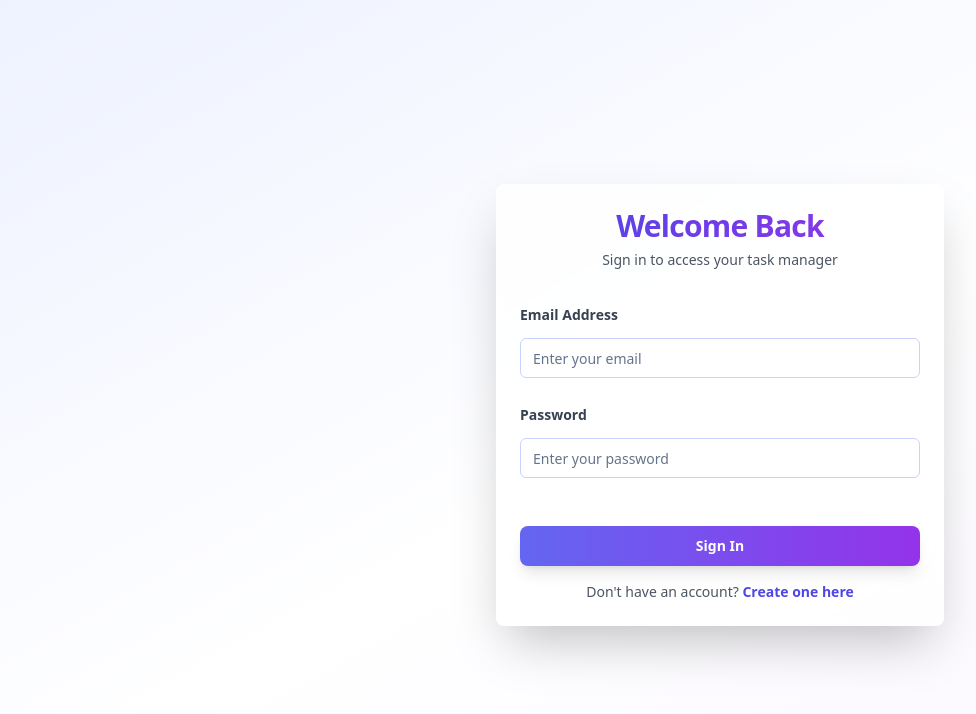
Test: App Integration Tests › handles authentication errors gracefully
In the field with placeholder "Enter your email": (720, 358) [520, 338, 920, 378], type "wrong@example.com"
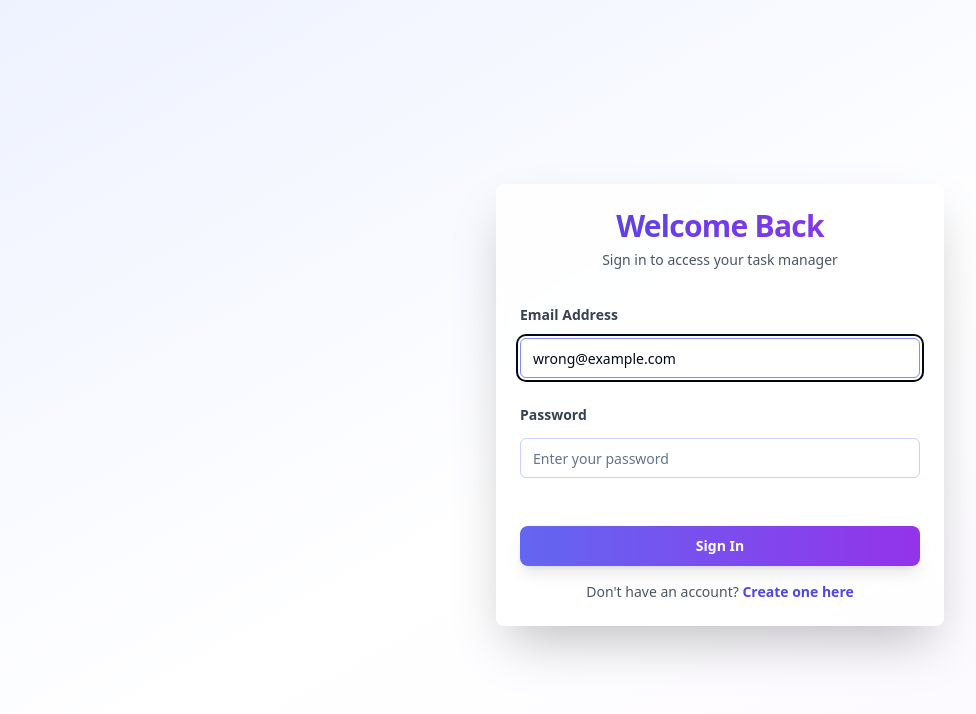
In the password field with placeholder "Enter your password": (720, 458) [520, 438, 920, 478], type "wrongpassword"
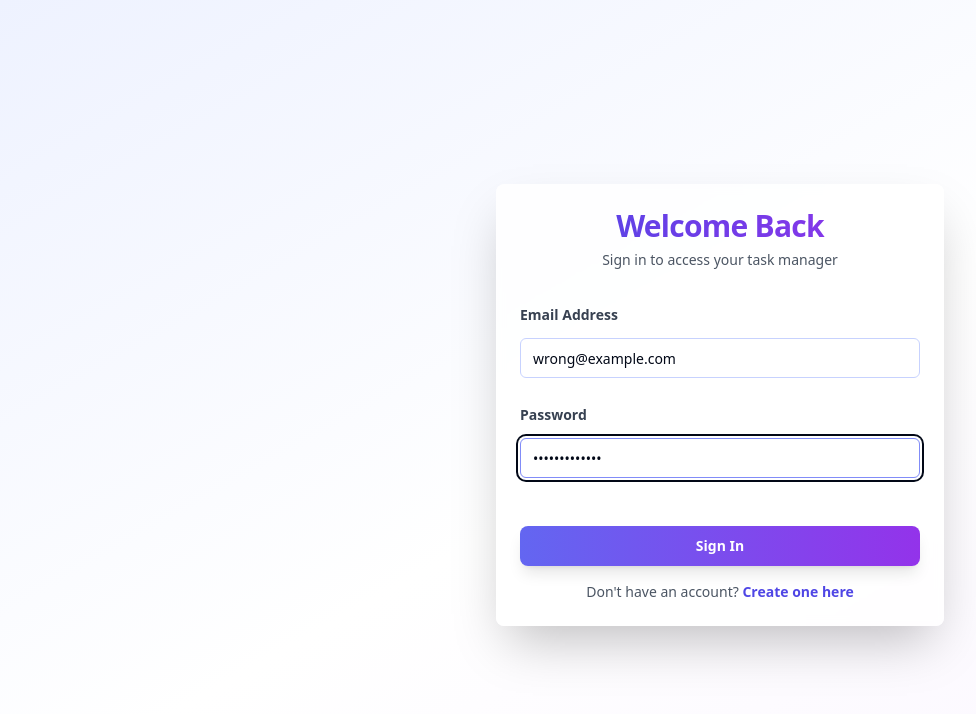
Click the button "Sign In": (720, 546) [520, 526, 920, 566]
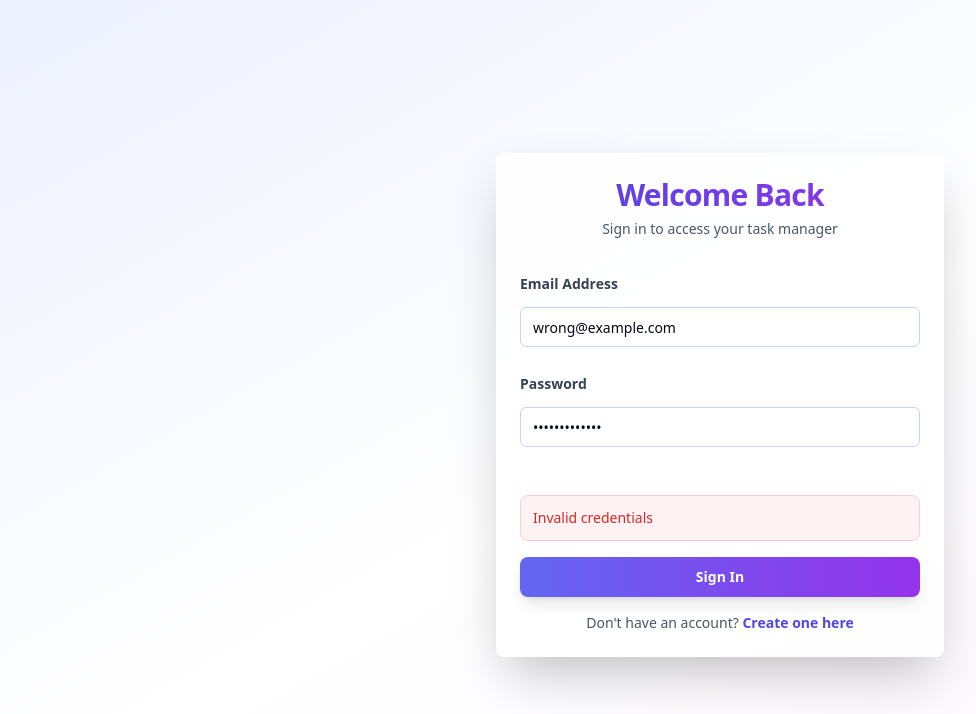
Check: the heading "Welcome Back" is shown, box [520, 177, 920, 213]
Check: the text "Invalid credentials" is shown, box [533, 508, 653, 527]
